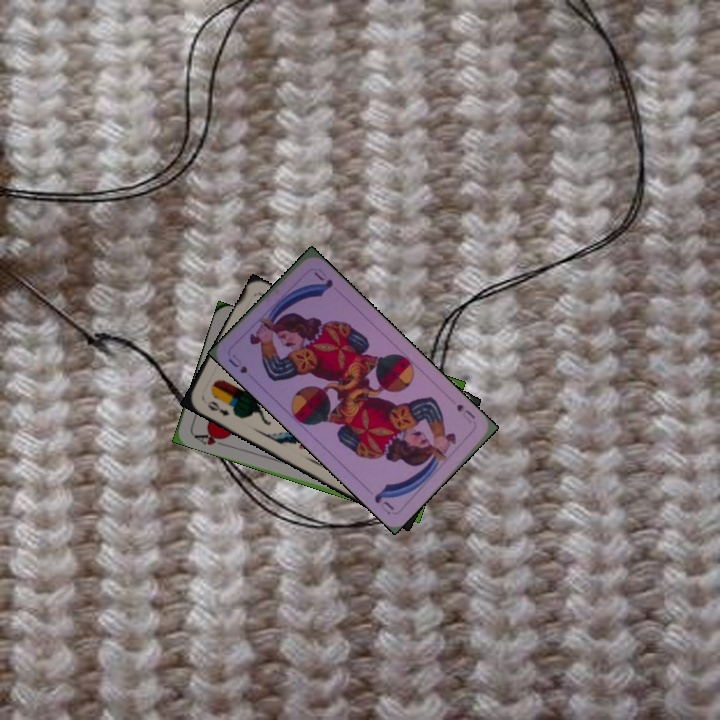EO: (203, 397, 232, 419)
HA: (190, 428, 229, 449)
SU: (224, 350, 250, 376), (453, 400, 478, 422)
